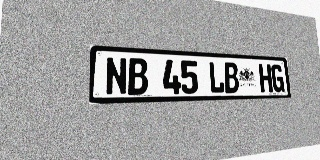4: (162, 59, 181, 94)
5: (181, 60, 198, 94)
B: (128, 58, 148, 95), (223, 62, 239, 93)
G: (271, 64, 285, 92)
H: (258, 64, 273, 92)
L: (208, 61, 225, 93)
N: (105, 57, 127, 95)
